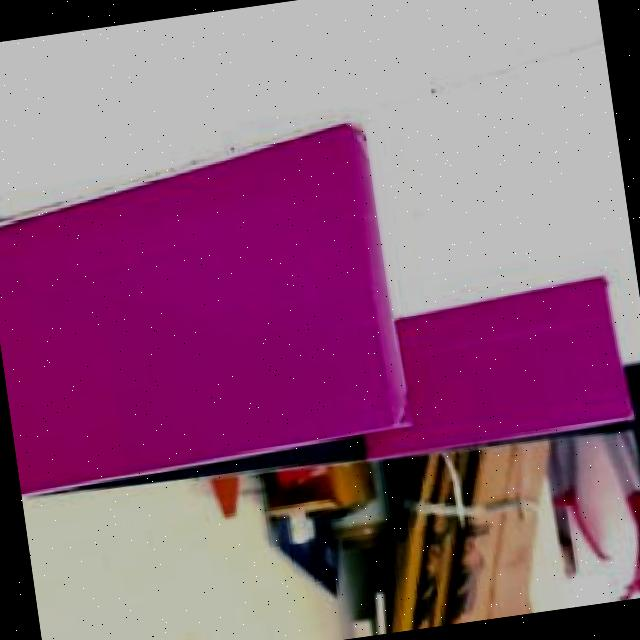xparking: (0, 119, 406, 490), (0, 147, 409, 481), (396, 277, 632, 452)
